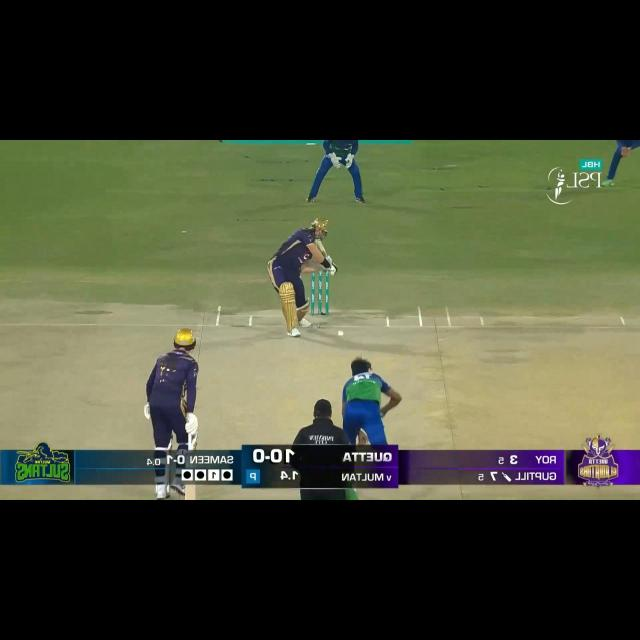bat: (316, 240, 329, 256), (185, 484, 196, 500)
toe: (182, 490, 198, 501), (315, 239, 323, 244)
